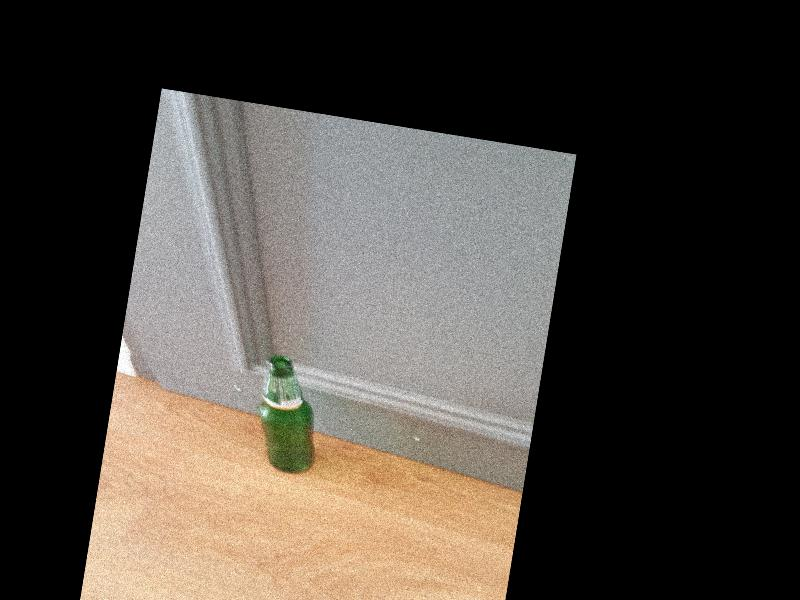Beer: (252, 355, 327, 475)
